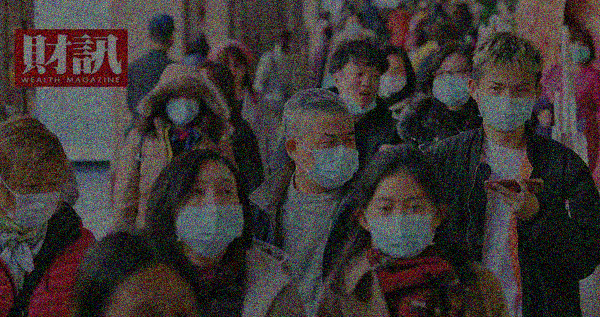mask_weared_incorrect: (340, 66, 380, 111)
with_mask: (175, 175, 244, 260), (367, 192, 437, 259), (303, 127, 360, 191), (477, 78, 536, 133), (9, 170, 60, 229), (433, 61, 471, 105), (165, 90, 202, 124), (379, 63, 408, 98), (569, 37, 592, 67)
without_mask: (221, 57, 248, 81)
